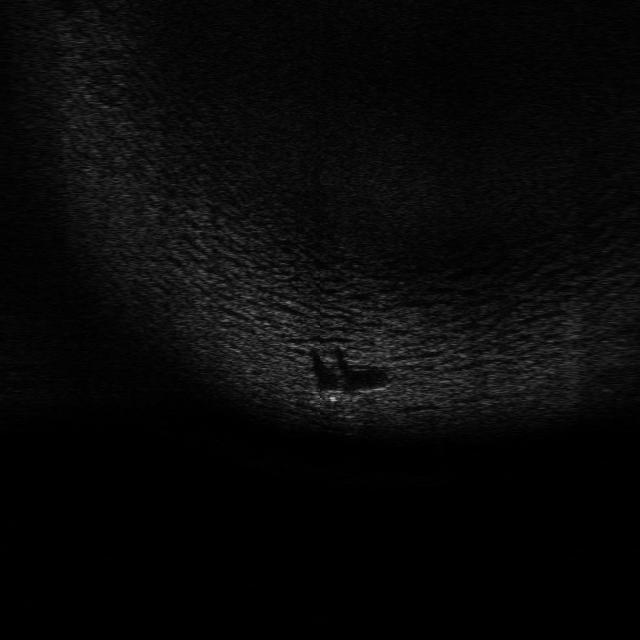plane: (323, 382, 392, 405)
